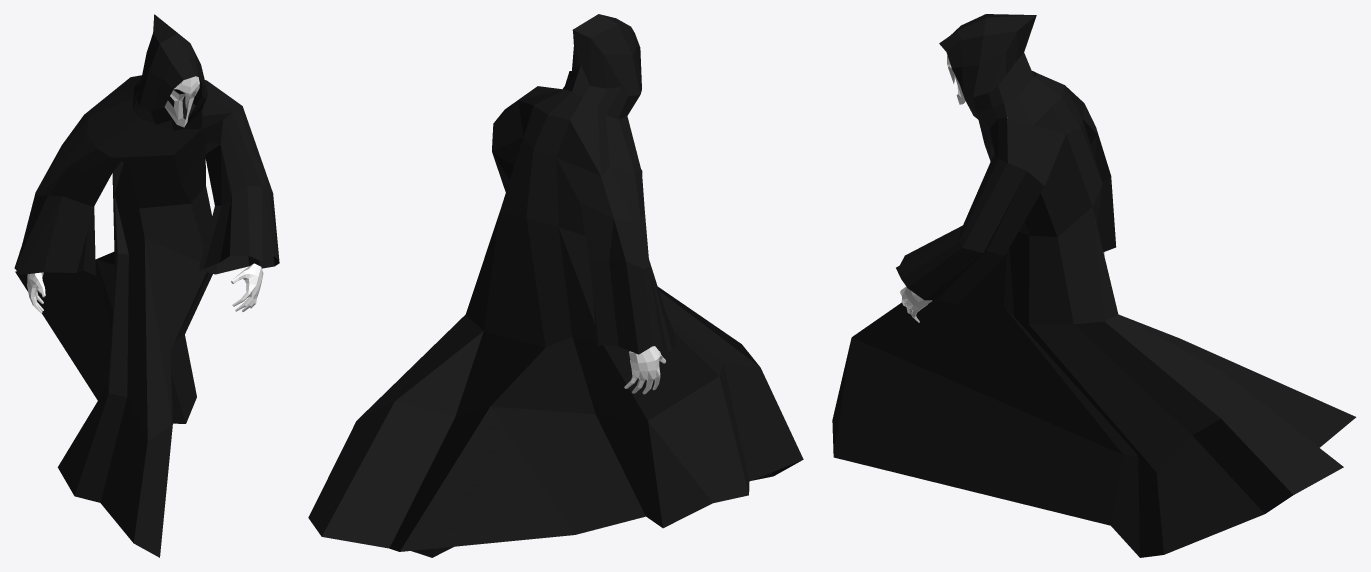
The model's file is ReaperWalk(32).obj.
3 renders of one model, left to right at view 1: azimuth 30°, elevation 25°; view 2: azimuth 150°, elevation 25°; view 3: azimuth 270°, elevation 25°, orthographic. The views are drawn at different scales.
Parts seen in each view (by area): view 1: Plane003; view 2: Plane003; view 3: Plane003.
Boxes of the visible parts, x1,y1,x2,y2 form: Plane003: (14, 14, 279, 557); Plane003: (308, 14, 803, 557); Plane003: (832, 14, 1356, 557).
Bounding box in the file's own units: 109 × 200 × 190.
